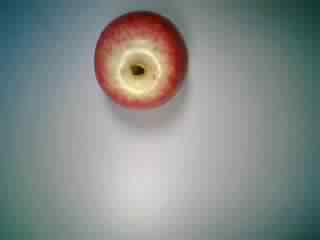apple: (87, 7, 194, 111)
